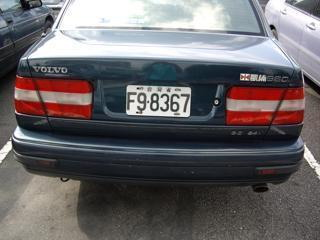plate: (124, 83, 191, 119)
